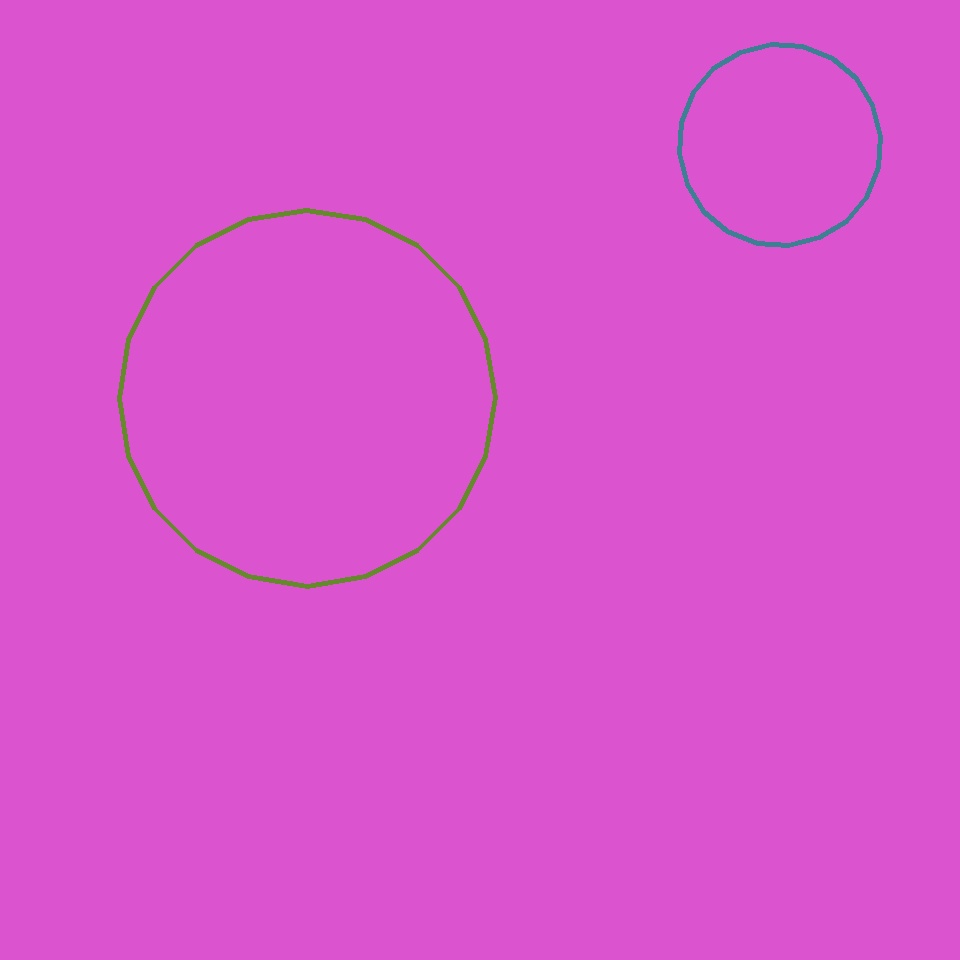triangle: (119, 210, 495, 586), (680, 44, 880, 246)
